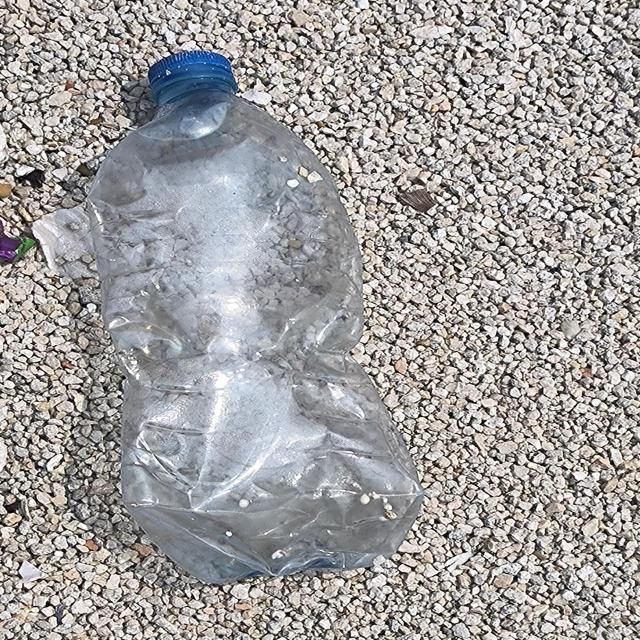plastic_waste: (90, 52, 430, 586)
